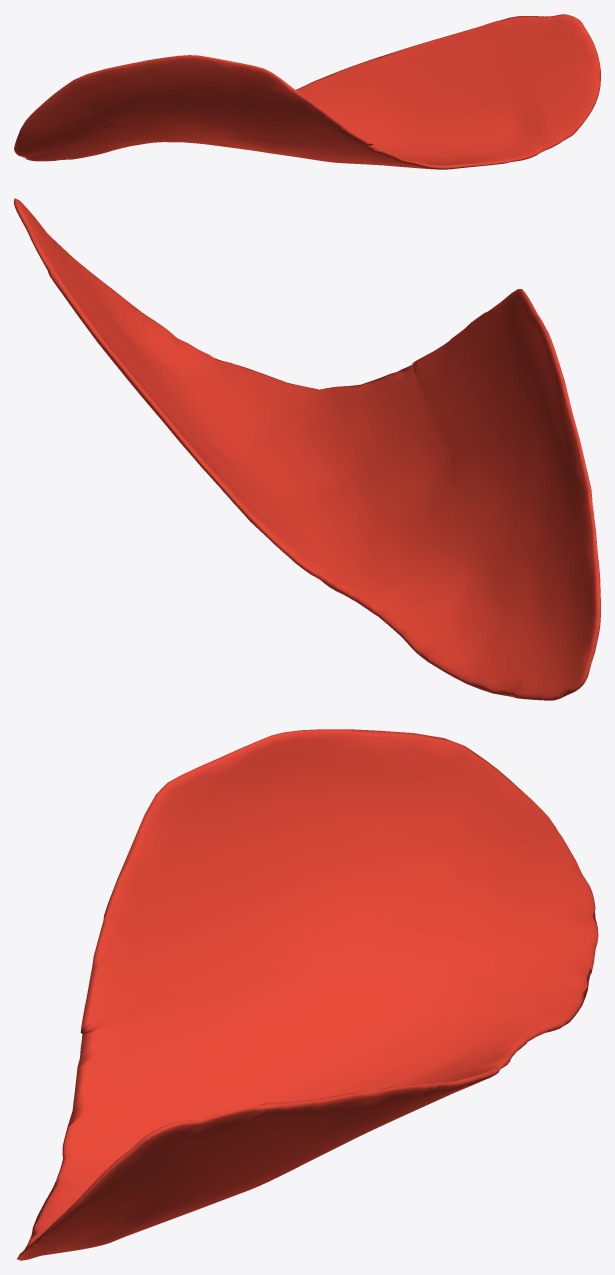
Rendered from Supraspinatus_muscle-Scapular_insertion.l_Generated_Mesh_From_X.glb.
The picture shows the model from 3 angles, top to bottom: view 1: azimuth 30°, elevation 25°; view 2: azimuth 150°, elevation 25°; view 3: azimuth 270°, elevation 25°; orthographic projection. The views are drawn at different scales.
Visible parts, largest first — view 1: Supraspinatus_muscle-Scapular_insertion.l_Generated_Mesh_Fro; view 2: Supraspinatus_muscle-Scapular_insertion.l_Generated_Mesh_Fro; view 3: Supraspinatus_muscle-Scapular_insertion.l_Generated_Mesh_Fro.
Boxes of the visible parts, x1=… form: Supraspinatus_muscle-Scapular_insertion.l_Generated_Mesh_Fro: x1=14, y1=14, x2=600, y2=169; Supraspinatus_muscle-Scapular_insertion.l_Generated_Mesh_Fro: x1=14, y1=198, x2=600, y2=700; Supraspinatus_muscle-Scapular_insertion.l_Generated_Mesh_Fro: x1=17, y1=729, x2=598, y2=1260.
Size of the model in its own units: 0.0642 by 0.02 by 0.0351.
